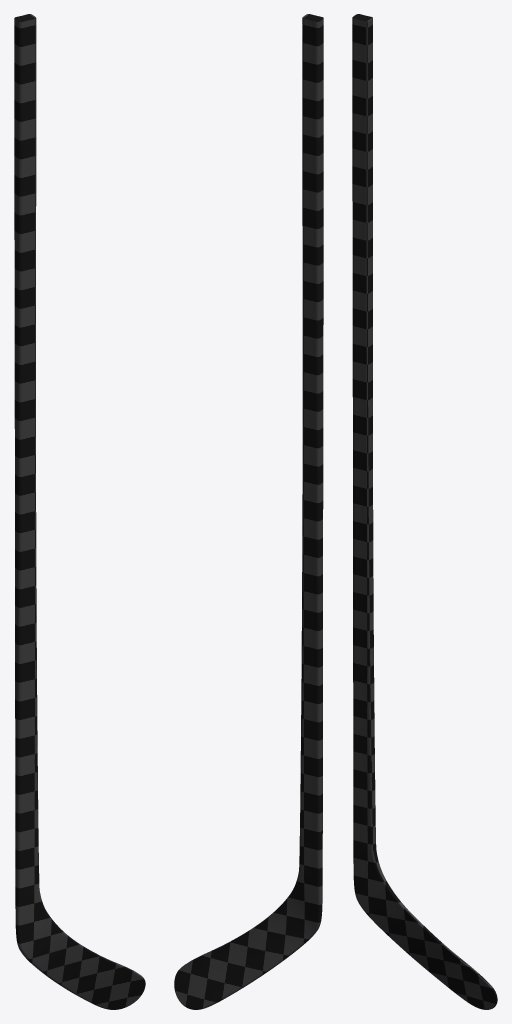
The model's file is P23-SBT.glb.
3 renders of one model, left to right at view 1: azimuth 30°, elevation 25°; view 2: azimuth 150°, elevation 25°; view 3: azimuth 330°, elevation 25°, orthographic. The views are drawn at different scales.
Visible parts, largest first — view 1: geometry_0; view 2: geometry_0; view 3: geometry_0.
Boxes of the visible parts, left/top/right/bottom form: geometry_0: left=14, top=14, right=145, bottom=1009; geometry_0: left=174, top=14, right=323, bottom=1009; geometry_0: left=352, top=14, right=497, bottom=1009.
Size of the model in its own units: 234 by 1650 by 57.76.
1 material, 1 textured.
